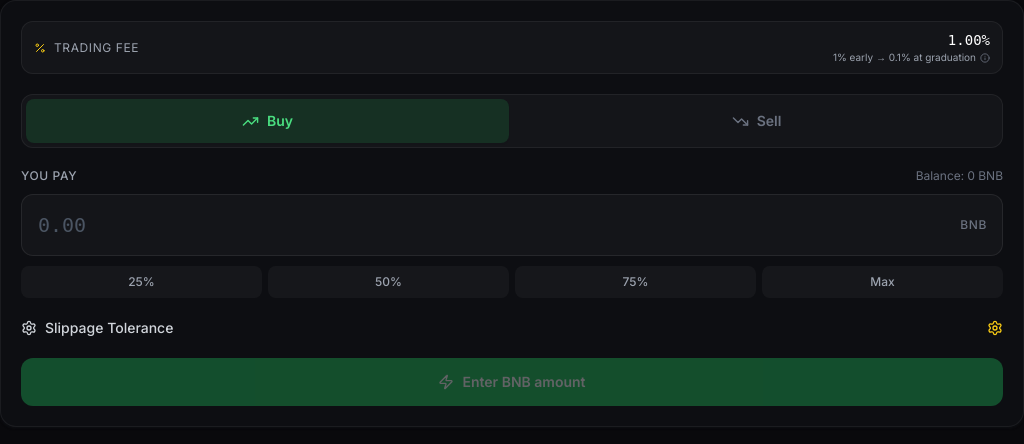
TradingInterface › Trade Type Switching › should switch from sell to buy mode
# First switch to sell
What coordinates should you click on to do the following:
click the button "Sell"
I would click on:
 (756, 121)
Its box is [515,99,998,143].
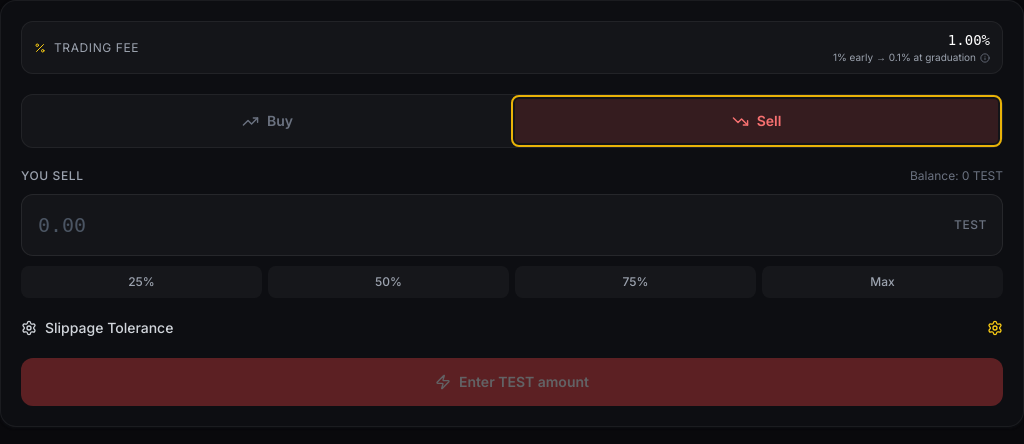
# Then switch back to buy
What coordinates should you click on to do the following:
click the button "Buy"
I would click on:
 (268, 121)
Its box is [26,99,509,143].
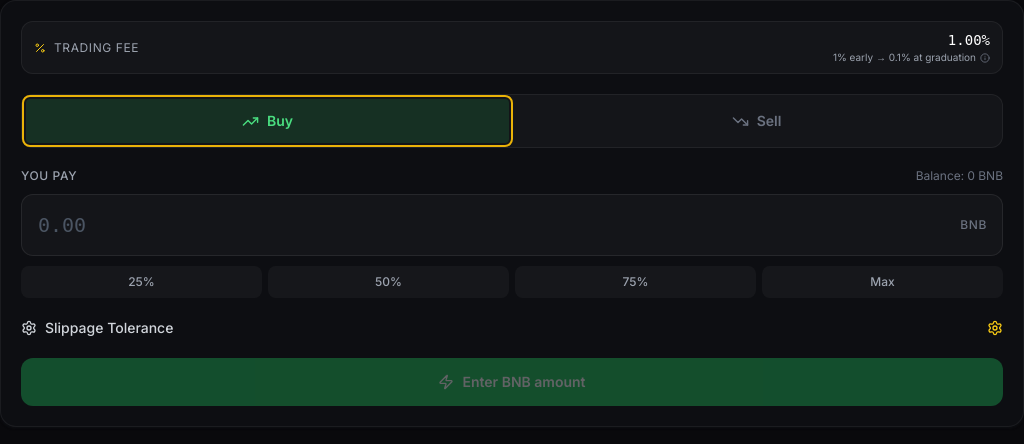
Expected: the text "You pay" is shown, [21,168,77,184]
